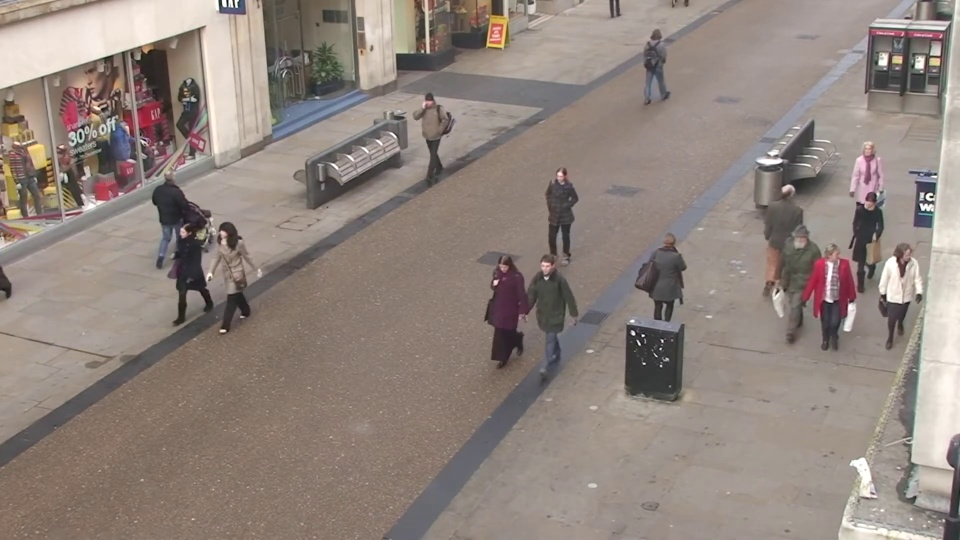pedestrian: (869, 239, 923, 370), (802, 242, 851, 372), (770, 231, 817, 358), (159, 217, 208, 337), (202, 220, 250, 341), (478, 254, 521, 387), (523, 255, 565, 389), (841, 190, 888, 307), (651, 224, 692, 349), (766, 174, 807, 285), (159, 158, 202, 263), (842, 141, 885, 245), (537, 168, 573, 279), (410, 91, 441, 180), (648, 26, 672, 97)
